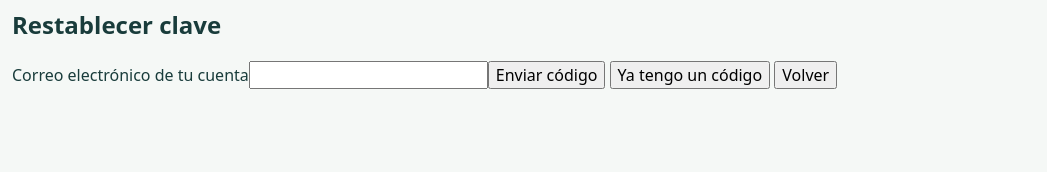
F01.1 US3: «Olvidé mi clave» › pide el código sin confirmar si la cuenta existe y pasa al paso de confirmación
Type " ana@example.test " into the field labelled "Correo electrónico de tu cuenta".
click(368, 75); type(" ana@example.test ")  # box [249,61,488,89]
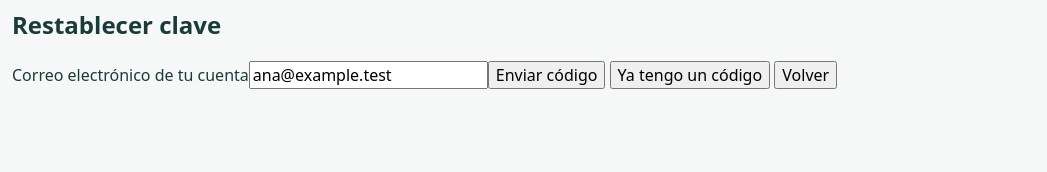
Submit the text "Enviar código", box [12,61,837,89]
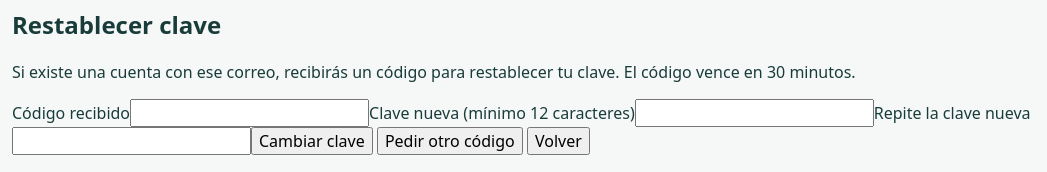
Expected: the message shows "Si existe una cuenta", [12,61,856,83]
Expected: the field labelled "Código recibido" is shown, [130,99,369,127]
